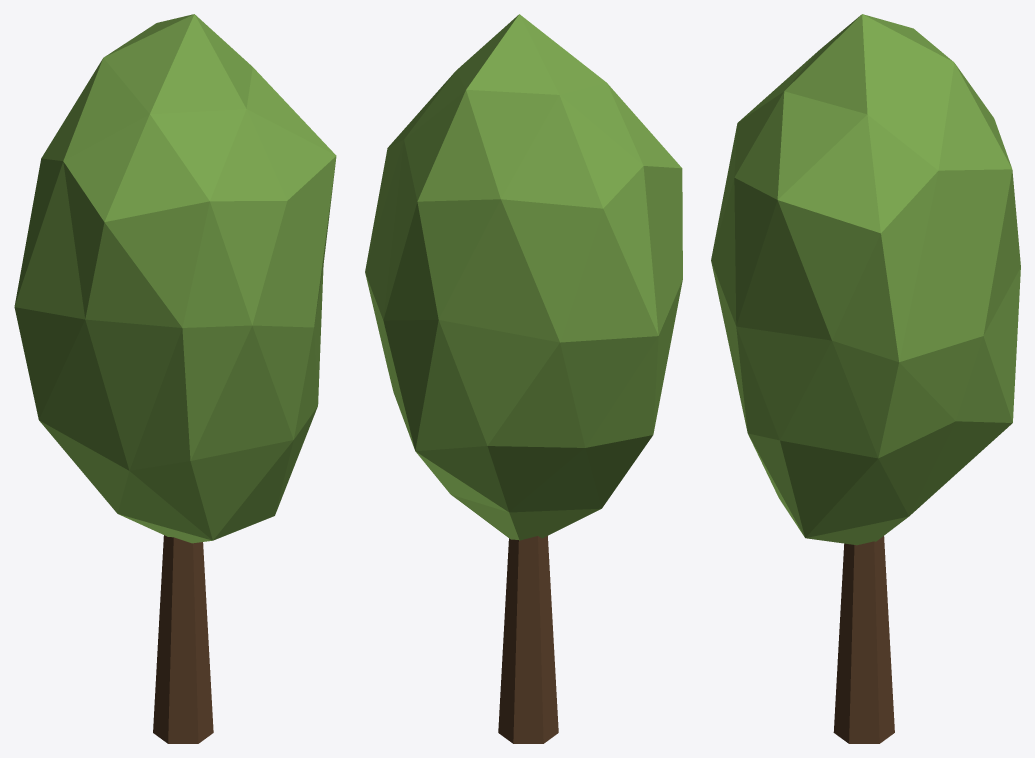
Rendered from Agac_Yuvarlak_3.fbx.
The picture shows the model from 3 angles, left to right: view 1: azimuth 30°, elevation 25°; view 2: azimuth 150°, elevation 25°; view 3: azimuth 270°, elevation 25°; orthographic projection.
Parts seen in each view (by area): view 1: Agac_Yuvarlak_3; view 2: Agac_Yuvarlak_3; view 3: Agac_Yuvarlak_3.
Boxes of the visible parts, box(x1,y1,x2,y2) form: Agac_Yuvarlak_3: box(14, 14, 336, 743); Agac_Yuvarlak_3: box(365, 14, 682, 743); Agac_Yuvarlak_3: box(711, 14, 1020, 743).
Bounding box in the file's own units: 3.16 × 7.31 × 2.84.
